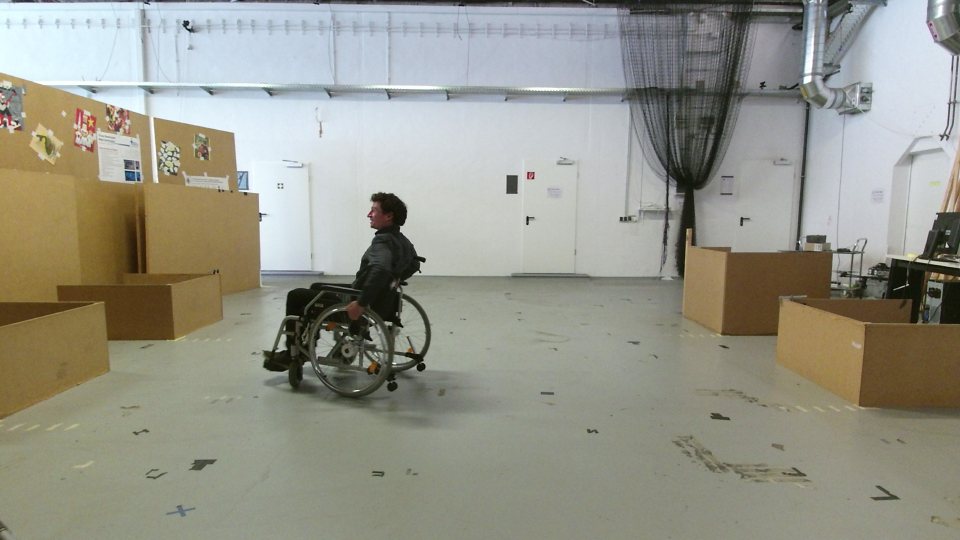wheelchair: (280, 184, 451, 405)
